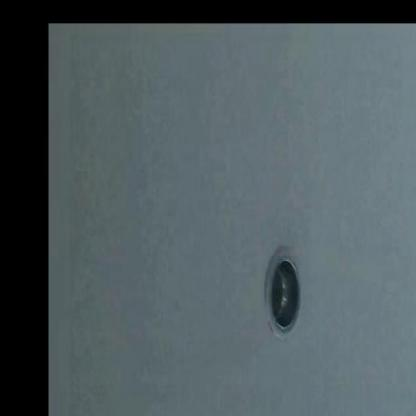light_off: (255, 225, 308, 355)
